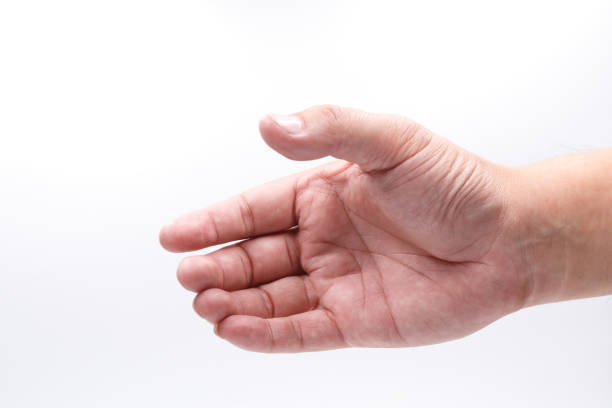non-diseased: (159, 97, 518, 348)
